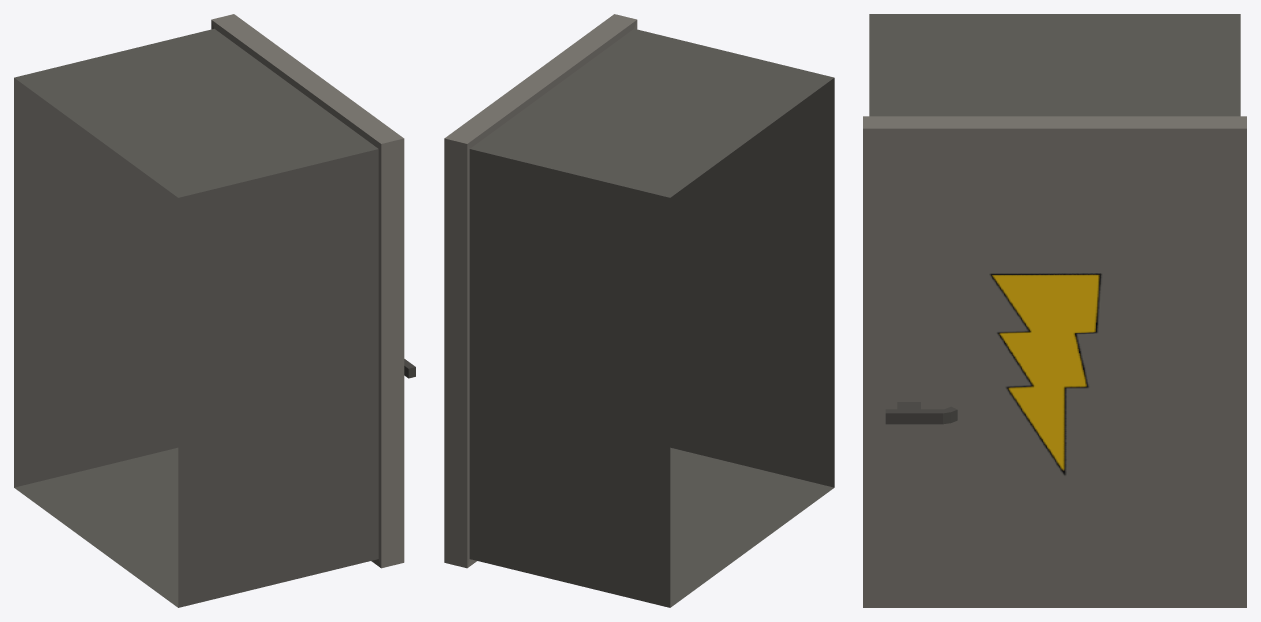
Rendered from F_fusebox_01.fbx.
3 views of the same model, side by side, from view 1: azimuth 30°, elevation 25°; view 2: azimuth 150°, elevation 25°; view 3: azimuth 270°, elevation 25° (orthographic). The views are drawn at different scales.
Visible parts, largest first — view 1: Cube; view 2: Cube; view 3: Cube.
Boxes of the visible parts, left/top/right/bottom form: Cube: left=14, top=14, right=415, bottom=607; Cube: left=444, top=14, right=834, bottom=607; Cube: left=863, top=14, right=1246, bottom=607.
Size of the model in its own units: 62.46 by 103 by 75.11.
1 material, 1 textured.
